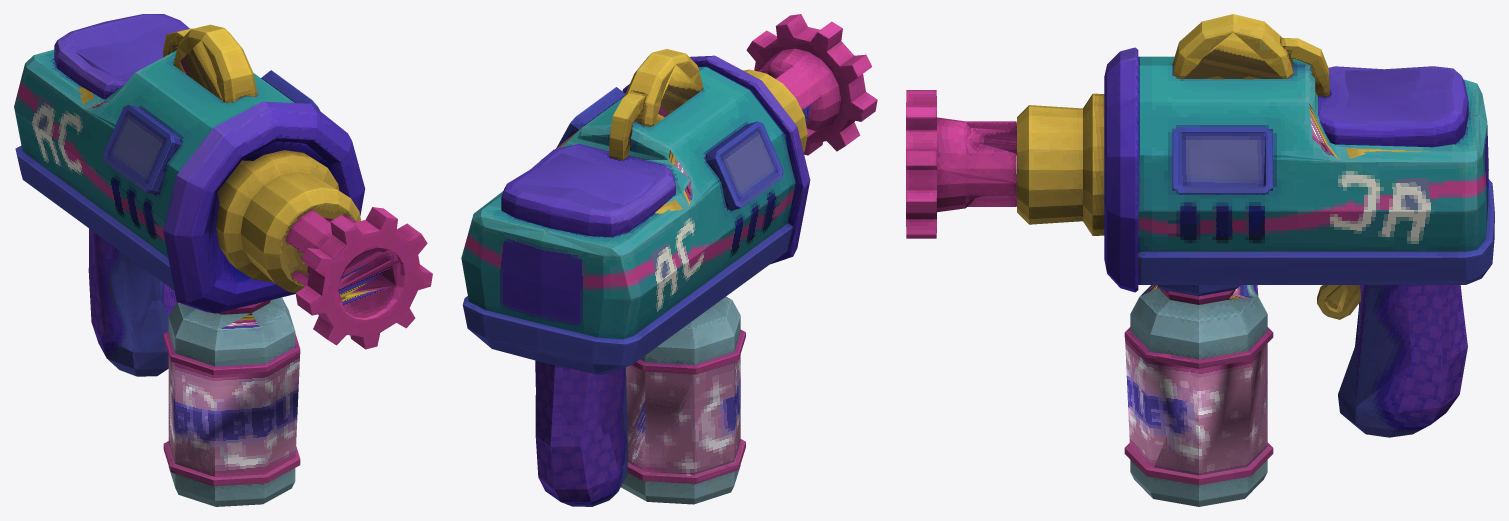
File: item_bubble_gun.glb
3 renders of one model, left to right at view 1: azimuth 30°, elevation 25°; view 2: azimuth 150°, elevation 25°; view 3: azimuth 270°, elevation 25°, orthographic. The views are drawn at different scales.
Visible parts, largest first — view 1: BubbleGun; view 2: BubbleGun; view 3: BubbleGun.
Boxes of the visible parts, x1,y1,x2,y2 form: BubbleGun: (14, 14, 432, 506); BubbleGun: (461, 14, 877, 506); BubbleGun: (906, 14, 1494, 506).
Size of the model in its own units: 0.1164 by 0.2482 by 0.2855.
Materials: 1 (1 with a texture image).
